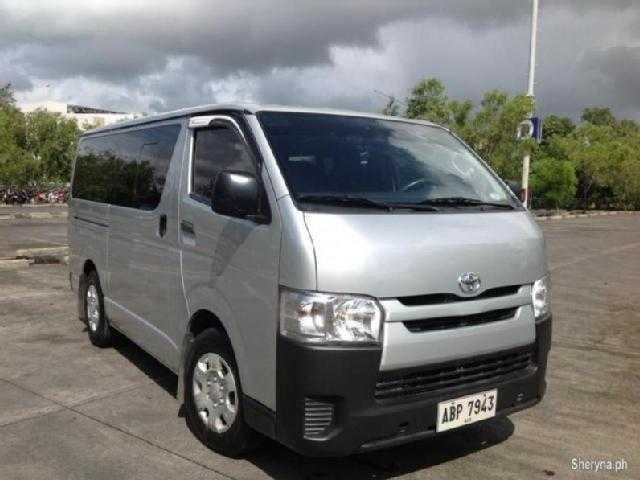van: (68, 99, 552, 461)
